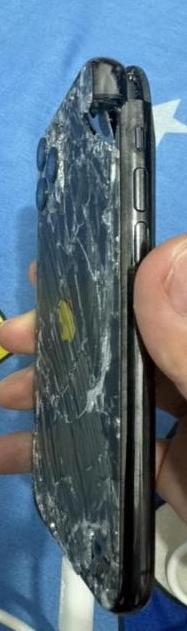physical_damage: (71, 52, 158, 134), (77, 438, 131, 511), (67, 557, 130, 617), (77, 309, 126, 376), (72, 235, 116, 307), (33, 233, 73, 311), (34, 104, 77, 176), (77, 374, 123, 439), (34, 372, 78, 437), (34, 433, 71, 509), (72, 185, 126, 236), (33, 314, 77, 376), (72, 511, 128, 557), (76, 133, 123, 184), (37, 178, 72, 233), (31, 507, 68, 559)
